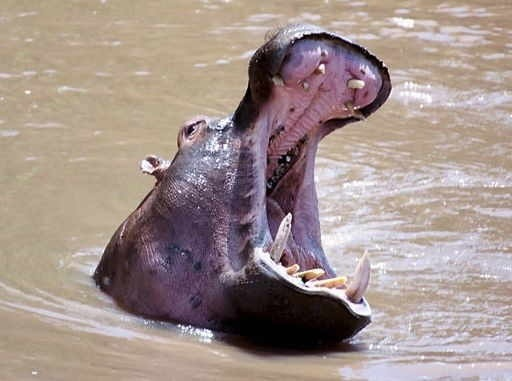hipopotamo: (62, 7, 421, 365)
